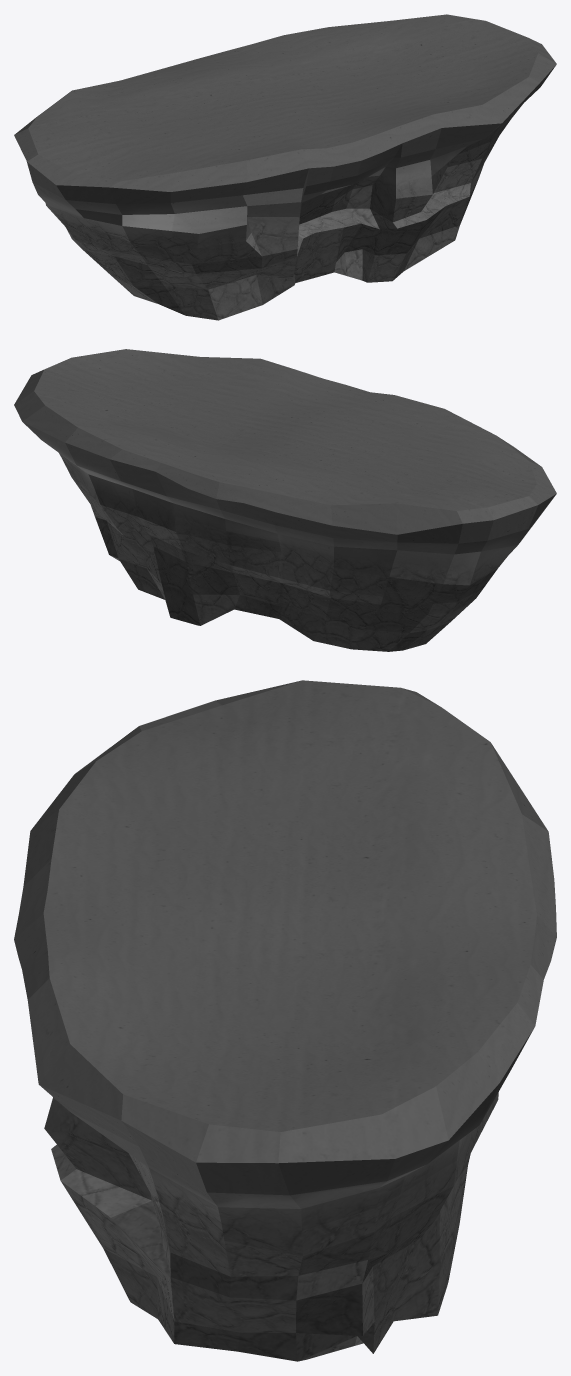
The model's file is m_island_large_1.fbx.
The picture shows the model from 3 angles, top to bottom: view 1: azimuth 30°, elevation 25°; view 2: azimuth 150°, elevation 25°; view 3: azimuth 270°, elevation 25°; orthographic projection. The views are drawn at different scales.
Parts seen in each view (by area): view 1: Island3; view 2: Island3; view 3: Island3.
Boxes of the visible parts, bbox=[...] form: Island3: bbox=[14, 14, 556, 320]; Island3: bbox=[14, 349, 556, 651]; Island3: bbox=[14, 680, 556, 1361].
Bounding box in the file's own units: 53.14 × 18.09 × 25.41.
